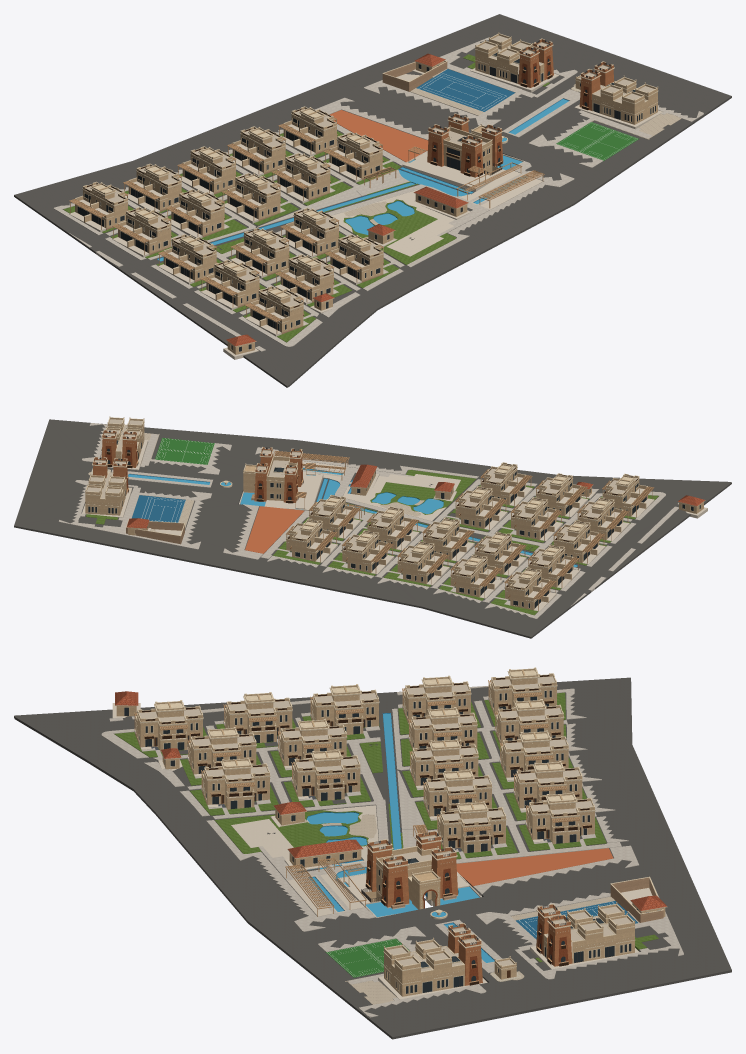
Rendered from Mirleft_Tranche_AB_AE_SAFE.glb.
The picture shows the model from 3 angles, top to bottom: view 1: azimuth 30°, elevation 25°; view 2: azimuth 150°, elevation 25°; view 3: azimuth 270°, elevation 25°; orthographic projection. The views are drawn at different scales.
Parts seen in each view (by area): view 1: MIRLEFT_TRANCHE_AB; view 2: MIRLEFT_TRANCHE_AB; view 3: MIRLEFT_TRANCHE_AB.
Boxes of the visible parts, box(x1,y1,x2,y2) form: MIRLEFT_TRANCHE_AB: box(14, 14, 731, 387); MIRLEFT_TRANCHE_AB: box(14, 416, 731, 638); MIRLEFT_TRANCHE_AB: box(14, 667, 731, 1039).
Size of the model in its own units: 231 by 24.94 by 184.
26 materials, 15 textured.
